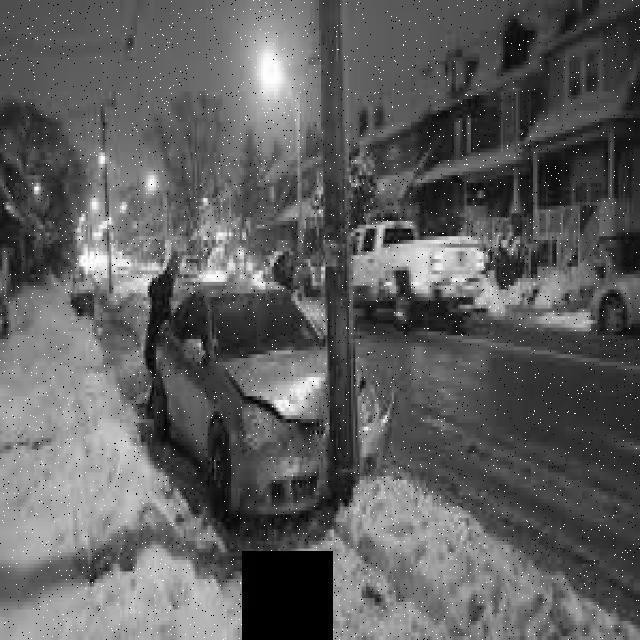accident: (146, 269, 392, 532)
vehicle: (353, 221, 499, 331), (587, 263, 640, 340), (297, 258, 327, 290), (175, 251, 203, 277)
